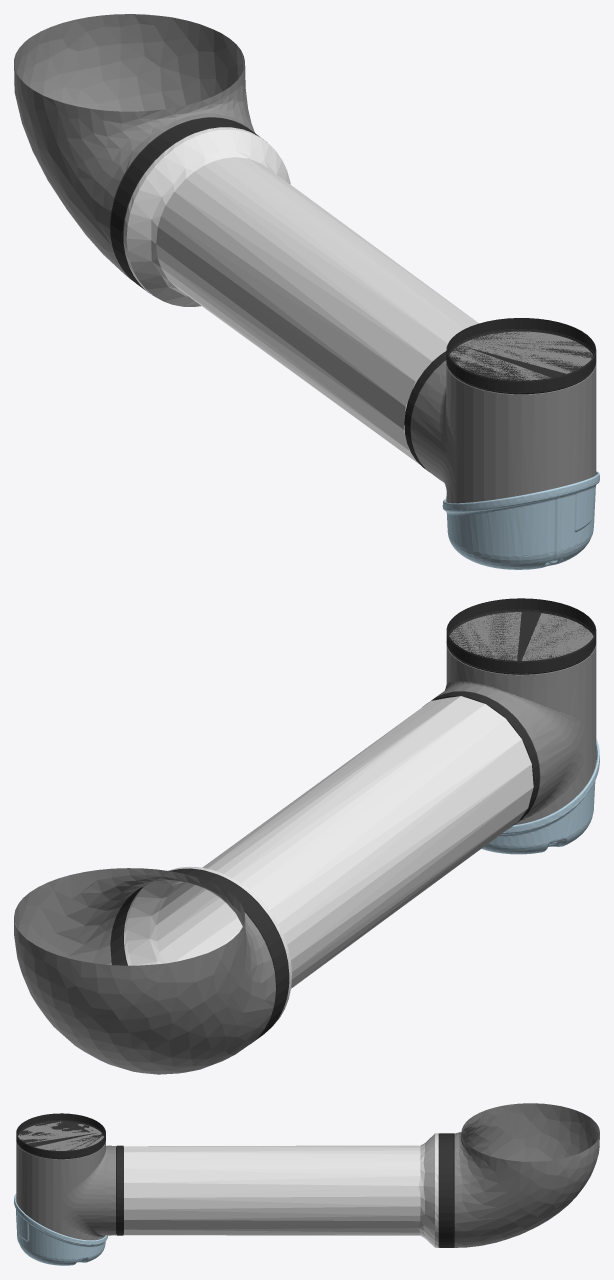
Rendered from forearm.glb.
The picture shows the model from 3 angles, top to bottom: view 1: azimuth 30°, elevation 25°; view 2: azimuth 150°, elevation 25°; view 3: azimuth 270°, elevation 25°; orthographic projection. The views are drawn at different scales.
Parts seen in each view (by area): view 1: eSeries_UR5e_022, eSeries_UR5e_020, eSeries_UR5e_028, eSeries_UR5e_024, eSeries_UR5e_025, eSeries_UR5e_021, eSeries_UR5e_023; view 2: eSeries_UR5e_022, eSeries_UR5e_020, eSeries_UR5e_028, eSeries_UR5e_025, eSeries_UR5e_021, eSeries_UR5e_024, eSeries_UR5e_023; view 3: eSeries_UR5e_022, eSeries_UR5e_020, eSeries_UR5e_028, eSeries_UR5e_024, eSeries_UR5e_025, eSeries_UR5e_021, eSeries_UR5e_023.
Boxes of the visible parts, x1,y1,x2,y2 form: eSeries_UR5e_022: (123, 127, 478, 464); eSeries_UR5e_020: (14, 14, 254, 281); eSeries_UR5e_028: (410, 331, 596, 503); eSeries_UR5e_024: (442, 471, 599, 569); eSeries_UR5e_025: (446, 318, 596, 394); eSeries_UR5e_021: (110, 117, 259, 295); eSeries_UR5e_023: (404, 351, 446, 471); eSeries_UR5e_022: (124, 696, 533, 1028); eSeries_UR5e_020: (14, 868, 275, 1074); eSeries_UR5e_028: (434, 612, 596, 824); eSeries_UR5e_025: (446, 598, 596, 674); eSeries_UR5e_021: (110, 868, 289, 1043); eSeries_UR5e_024: (481, 739, 599, 854); eSeries_UR5e_023: (423, 691, 539, 828); eSeries_UR5e_022: (124, 1133, 438, 1247); eSeries_UR5e_020: (454, 1103, 599, 1247); eSeries_UR5e_028: (16, 1121, 115, 1240); eSeries_UR5e_024: (14, 1194, 107, 1265); eSeries_UR5e_025: (16, 1113, 105, 1159); eSeries_UR5e_021: (438, 1133, 454, 1247); eSeries_UR5e_023: (116, 1145, 123, 1235).
Bounding box in the file's own units: 0.1158 × 0.1099 × 0.4894.
